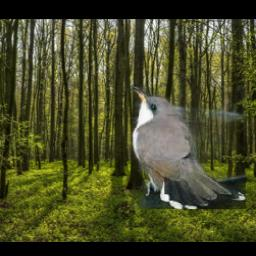Cuckoo: (130, 85, 246, 209)
